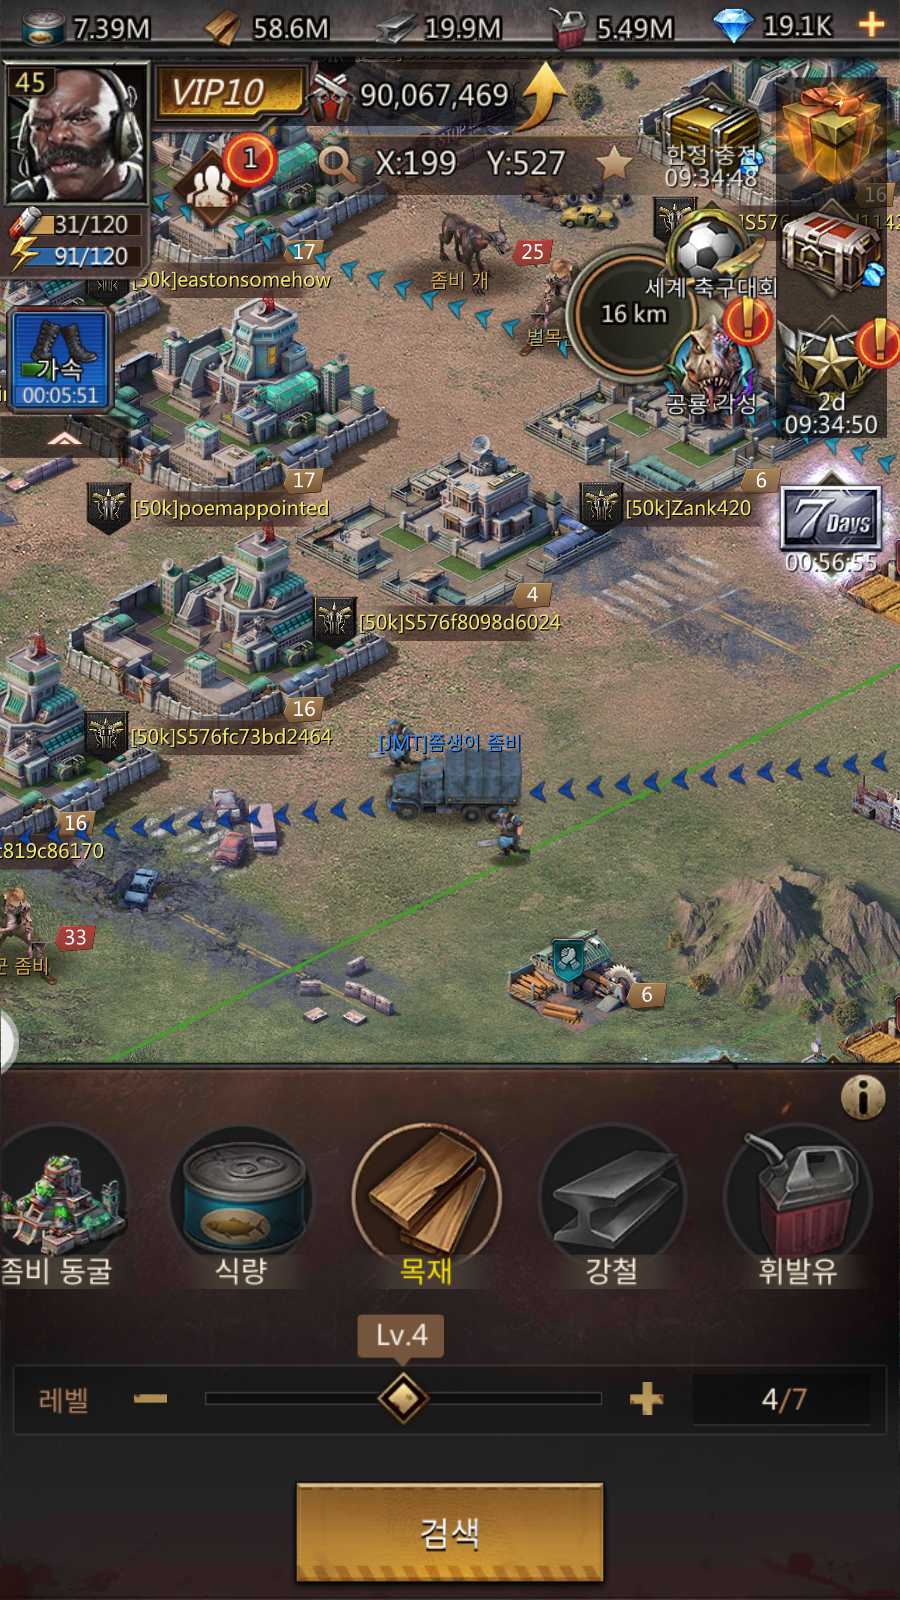rss_food_in_panel: (170, 1122, 315, 1295)
rss_gas_in_panel: (720, 1119, 876, 1298)
rss_lv4: (354, 1315, 448, 1359)
rss_minus_in_panel: (120, 1368, 180, 1424)
rss_plus_in_panel: (620, 1369, 675, 1427)
rss_search_in_panel: (297, 1480, 603, 1584)
rss_steel_in_panel: (537, 1122, 695, 1293)
rss_wood_in_panel: (351, 1122, 509, 1295)
troops_cnt_1: (159, 124, 290, 234)
